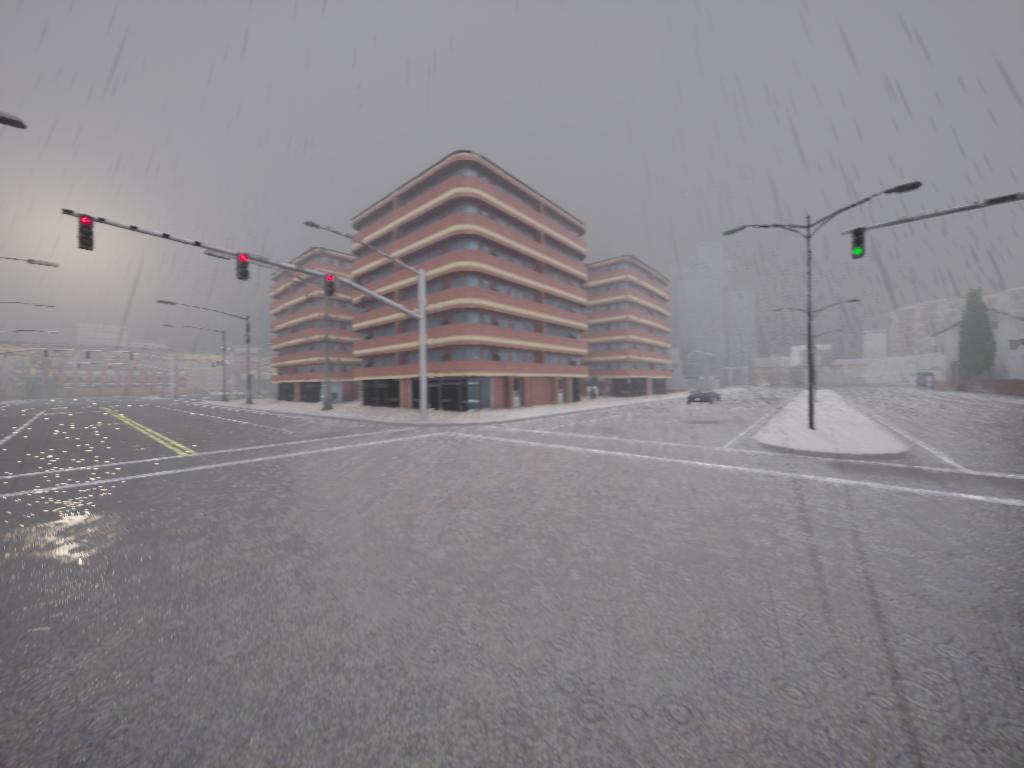traffic_light: (80, 215, 97, 252), (850, 232, 865, 260), (236, 255, 250, 282), (326, 278, 336, 296)
